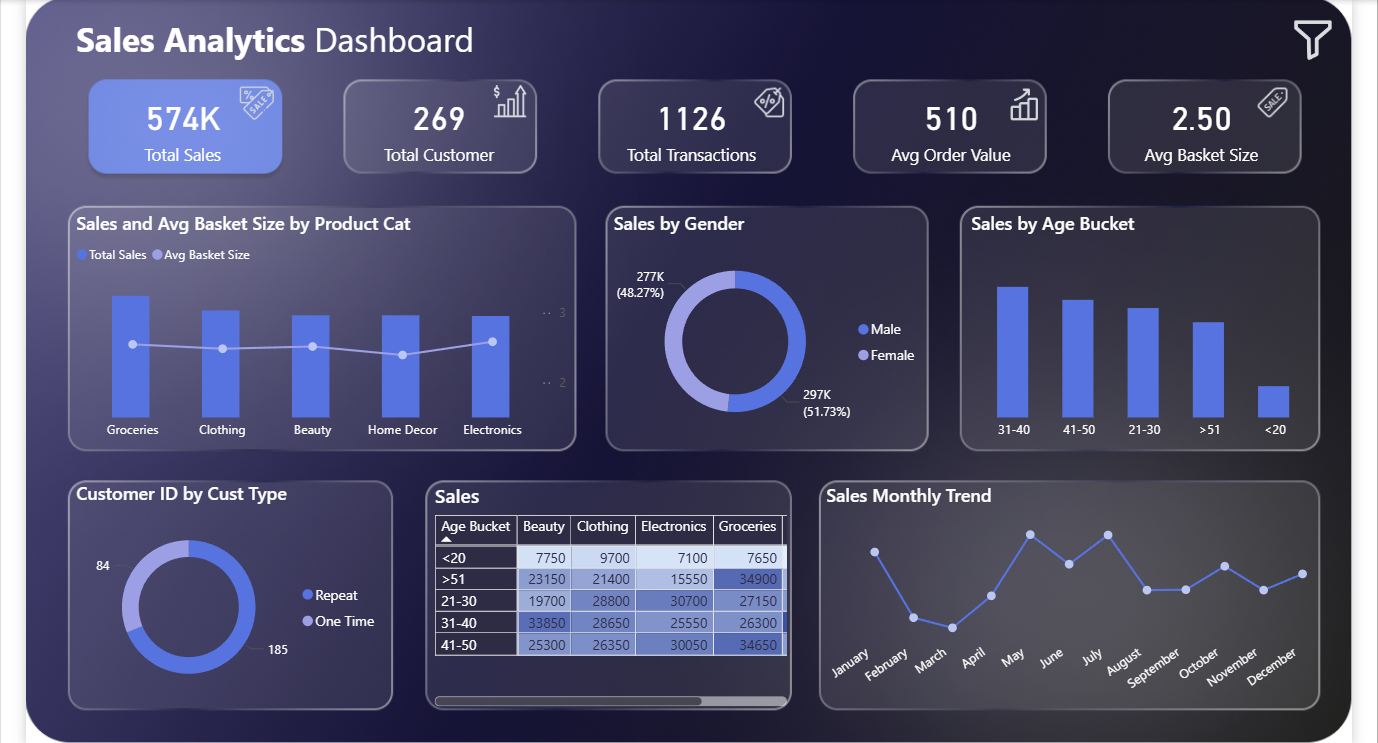

This screenshot's page, from the dashboard's own definition file:
{"tool":"powerbi","page":{"name":"SalesAnalytics","canvas":[1280,720],"ordinal":0},"visuals":[{"type":"card","fields":{"Values":["Measure.Total Sales"]},"box":[43.4,74.8,216,96.5],"z":0},{"type":"card","fields":{"Values":["Measure.Total Customer"]},"box":[301.6,74.8,194.2,96.5],"z":1000},{"type":"card","fields":{"Values":["Measure.Total Transactions"]},"box":[545.3,74.8,194.2,96.5],"z":2000},{"type":"card","fields":{"Values":["Measure.Avg Order Value"]},"box":[795,74.8,195.4,96.5],"z":3000},{"type":"card","fields":{"Values":["Measure.Avg Basket Size"]},"box":[1037.5,74.8,194.2,96.5],"z":4000},{"type":"lineStackedColumnComboChart","title":"Sales and Avg Basket Size by Product Cat","fields":{"Category":["retail_sales.Product Category"],"Y":["Measure.Total Sales"],"Y2":["Measure.Avg Basket Size"]},"box":[43.4,203.9,483.8,229.2],"z":5000},{"type":"donutChart","title":"Sales by Gender","fields":{"Category":["retail_sales.Gender"],"Y":["Measure.Total Sales"]},"box":[562.2,203.9,310.1,229.2],"z":6000},{"type":"columnChart","title":"Sales by Age Bucket","fields":{"Category":["retail_sales.Age Bucket"],"Y":["Measure.Total Sales"]},"box":[907.2,203.9,345,229.2],"z":7000},{"type":"donutChart","title":"Customer ID by Cust Type ","fields":{"Category":["Customer Type_2.Cust Type "],"Y":["CountNonNull(Customer Type_2.Customer ID)"]},"box":[43.4,464.5,307.6,220.8],"z":8000},{"type":"pivotTable","title":"Sales","fields":{"Rows":["retail_sales.Age Bucket"],"Columns":["retail_sales.Product Category"],"Values":["Measure.Total Sales"]},"box":[389.7,465.7,349.9,220.8],"z":9000},{"type":"lineChart","title":"Sales Monthly Trend","fields":{"Y":["Measure.Total Sales"],"Category":["retail_sales.Date.Variation.Date Hierarchy.Month"]},"box":[767.3,465.7,485,220.8],"z":10000},{"type":"image","title":"Open_ slicer","box":[1220.9,10.9,42.2,53.1],"z":11000},{"type":"textbox","box":[43.4,10.9,655.1,72.4],"z":13000},{"type":"image","box":[694.9,84.5,44.6,29],"z":14000},{"type":"image","box":[945.8,78.4,35,44.6],"z":15000},{"type":"image","box":[1184.7,84.5,36.2,29],"z":16000},{"type":"image","box":[450,82,35,31.4],"z":17000},{"type":"image","box":[206.3,65.1,32.6,68.8],"z":18000}]}

Visuals, with their boxes in screenshot pixels (x1, y1, x2, y2):
card - Measure.Total Sales: (left=22, top=35, right=259, bottom=141)
card - Measure.Total Customer: (left=305, top=35, right=517, bottom=141)
card - Measure.Total Transactions: (left=571, top=35, right=784, bottom=141)
card - Measure.Avg Order Value: (left=844, top=35, right=1058, bottom=141)
card - Measure.Avg Basket Size: (left=1110, top=35, right=1322, bottom=141)
"Sales and Avg Basket Size by Product Cat" lineStackedColumnComboChart: (left=22, top=176, right=551, bottom=427)
"Sales by Gender" donutChart: (left=590, top=176, right=929, bottom=427)
"Sales by Age Bucket" columnChart: (left=967, top=176, right=1344, bottom=427)
"Customer ID by Cust Type " donutChart: (left=22, top=461, right=359, bottom=703)
"Sales" pivotTable: (left=401, top=463, right=784, bottom=704)
"Sales Monthly Trend" lineChart: (left=814, top=463, right=1344, bottom=704)
"Open_ slicer" image: (left=1310, top=0, right=1356, bottom=23)
textbox: (left=22, top=0, right=739, bottom=44)
image: (left=735, top=46, right=784, bottom=77)
image: (left=1009, top=39, right=1047, bottom=88)
image: (left=1270, top=46, right=1310, bottom=77)
image: (left=467, top=43, right=505, bottom=77)
image: (left=200, top=25, right=236, bottom=100)
